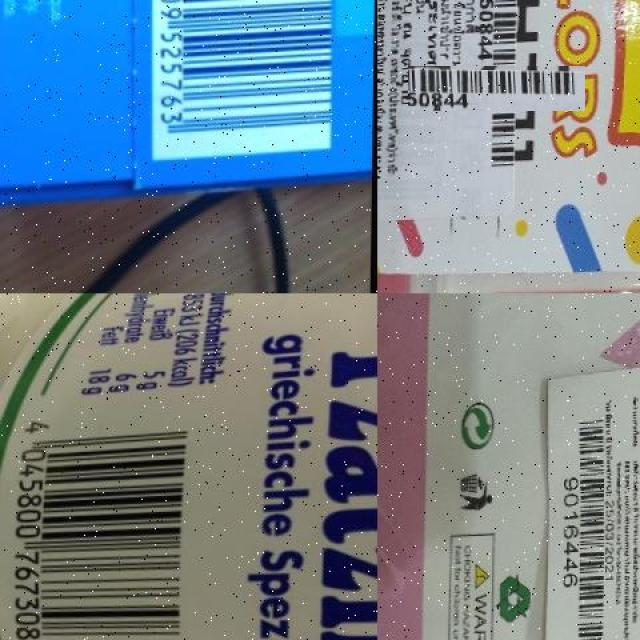Barcode: (0, 405, 213, 639), (154, 0, 330, 160), (559, 406, 613, 640), (441, 33, 553, 144)
